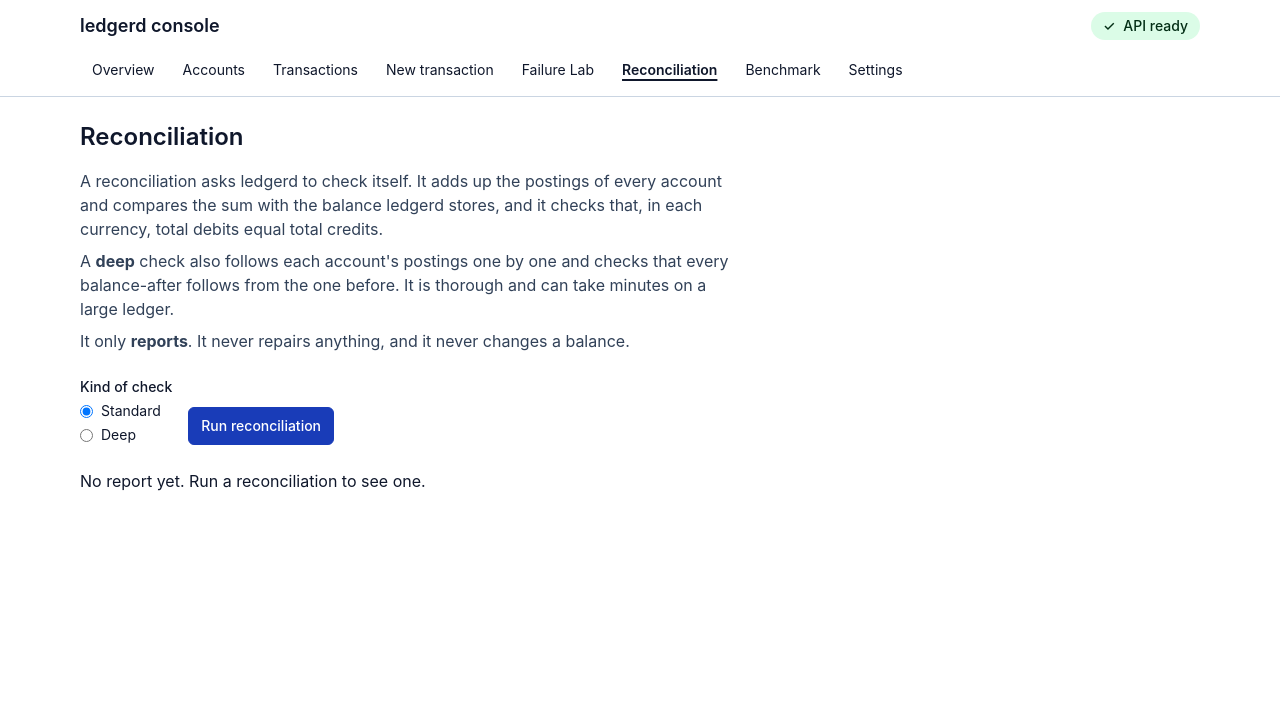
Test: running (R10.1) › runs a deep check when asked
Check: the heading "Reconciliation" is shown, box left=80, top=121, right=244, bottom=153
Step 1. Click the radio button labelled "Deep" → point(86, 435), box left=80, top=428, right=93, bottom=442
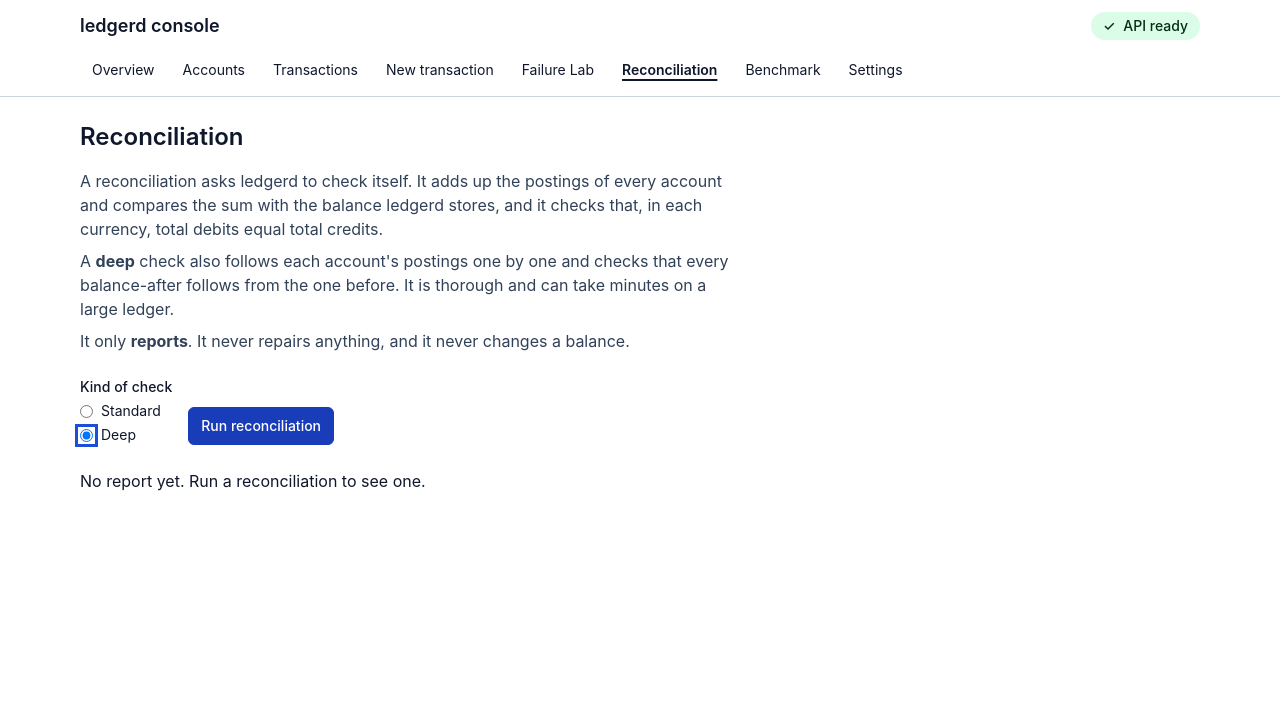
Step 2. Click the button "Run reconciliation" → point(261, 426), box left=188, top=407, right=334, bottom=445
(page scrolled)
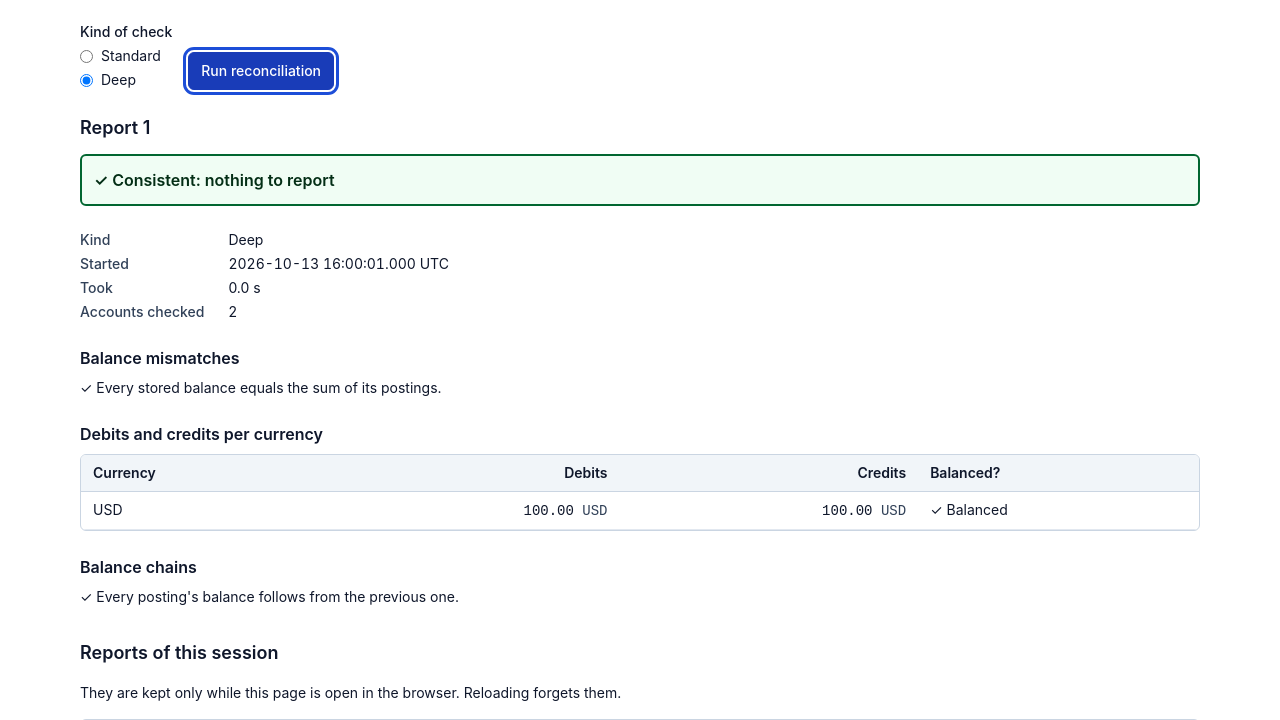
Check: the element that starts with "Report" shows "Deep", box left=228, top=231, right=263, bottom=248
Check: the element that starts with "Report" shows "Every posting's balance follows from the previous one.", box left=96, top=588, right=459, bottom=605
